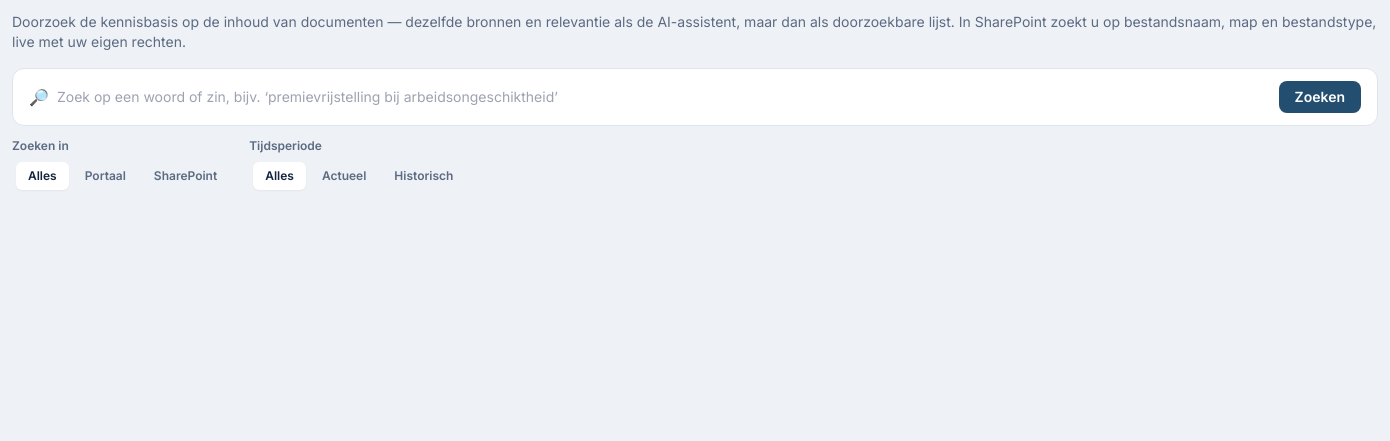
ZoekenPaneel — SharePoint als zoekbron (#463) › Portaal: geen SharePoint-verzoek en geen SharePoint-blok
Step 1. Click the button "Portaal" → (105, 176), box [73,162,138,190]
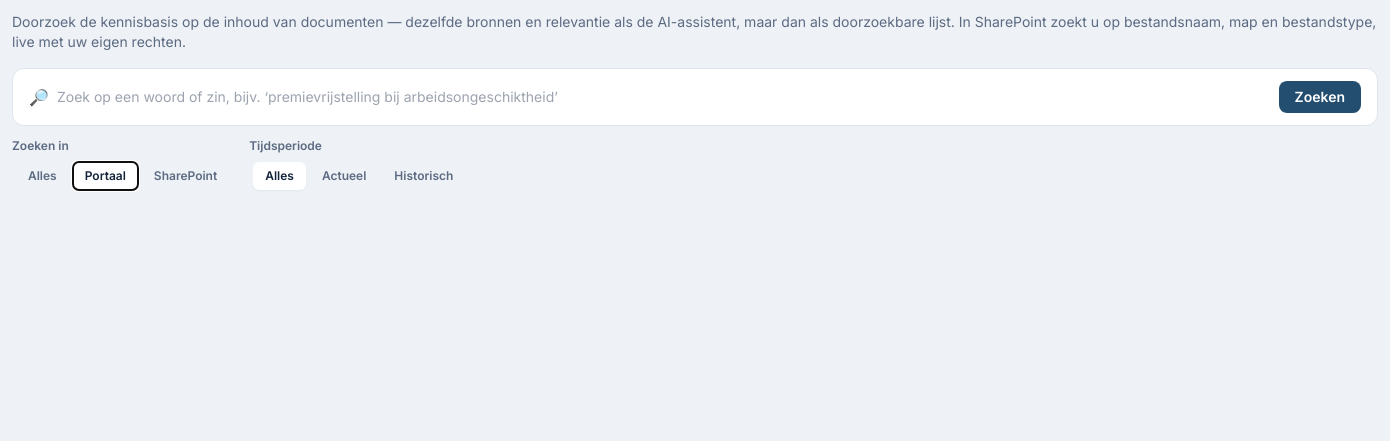
Step 2. Type "notulen" into the field with placeholder "Zoek op een woord of zin" → (664, 97), box [57,87,1271,107]
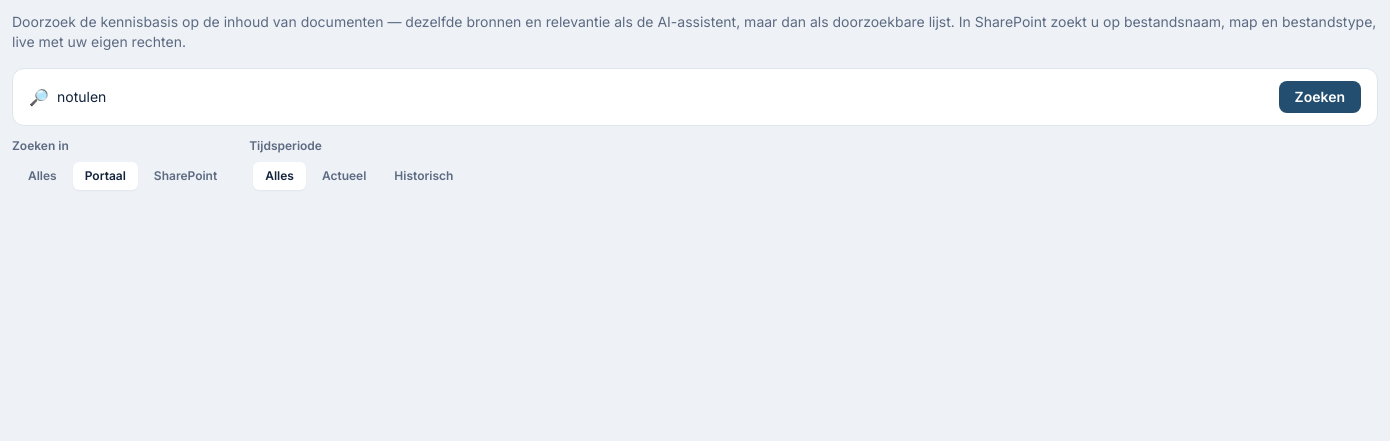
Step 3. Click the button "Zoeken" → (1320, 97), box [1279,81,1361,113]
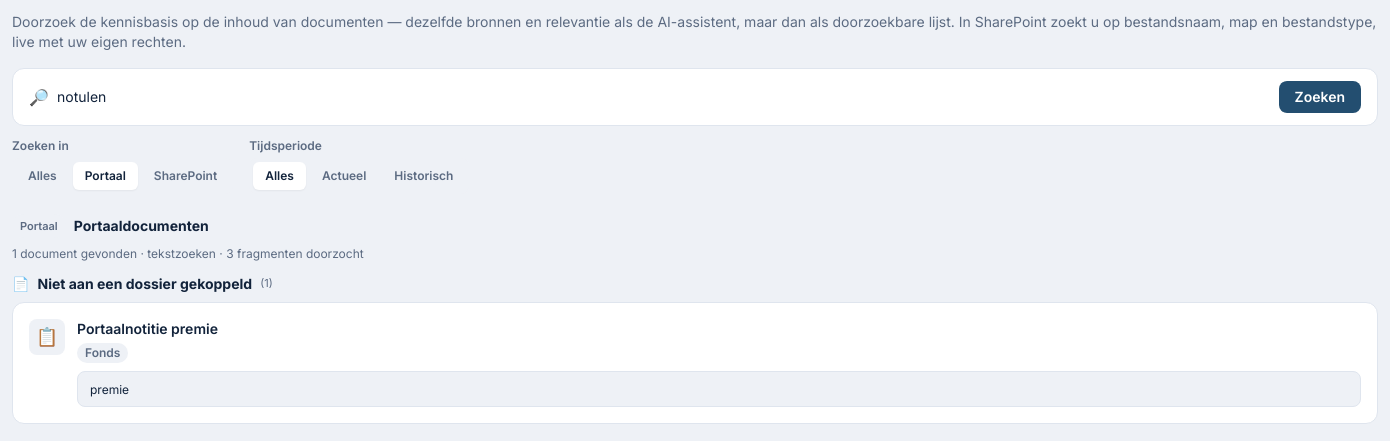
Check: the text "Portaalnotitie premie" is shown, box [77,320,218,337]
